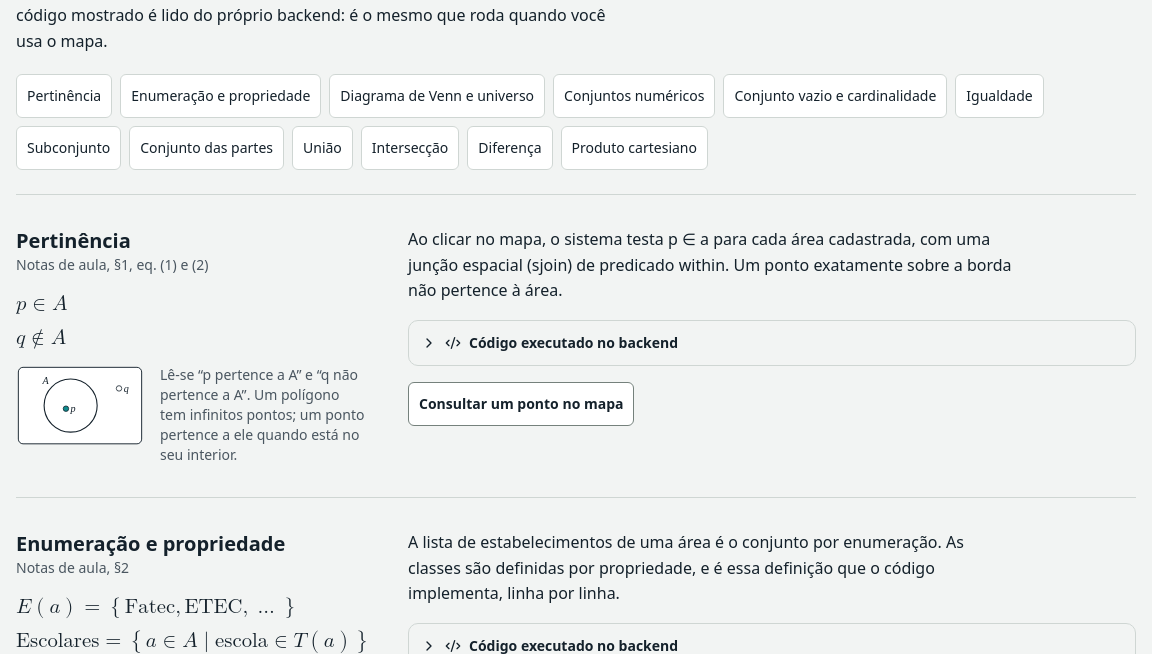
Test: PaginaTeoria › exibe o código-fonte lido do backend
This screenshot has width=1152, height=654.
(page scrolled)
Click the heading "Código executado no backend" below "§1, eq. (1) e (2)": (550, 342) [421,333,678,352]
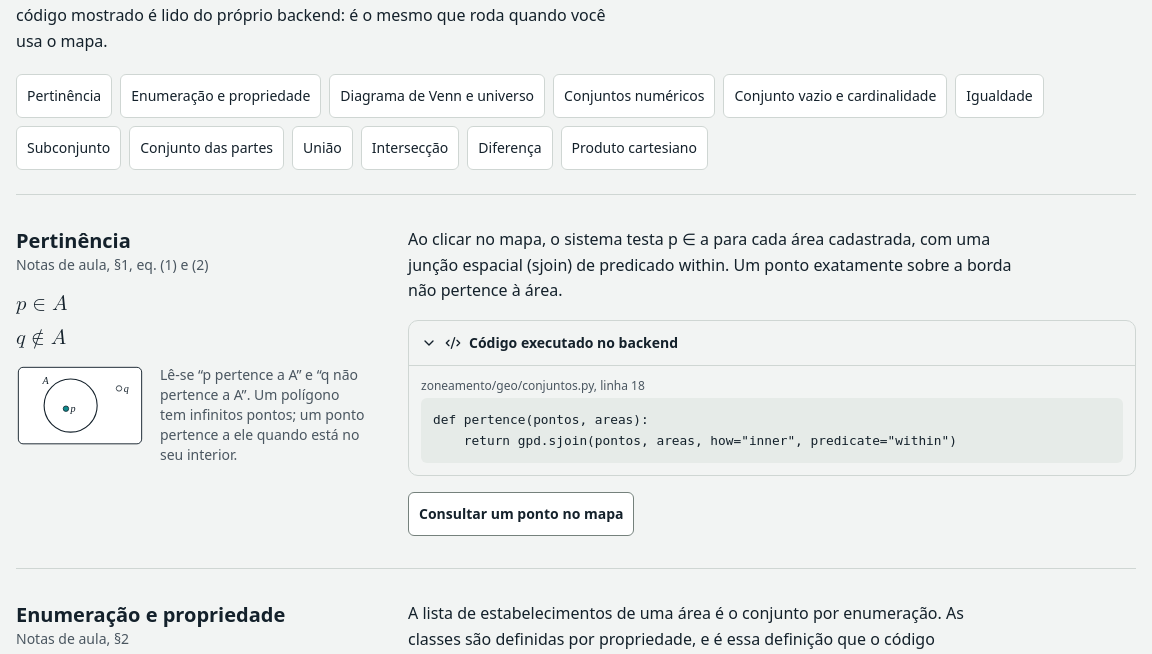
expect the text "predicate=\"within\"" is shown: met, box [433,412,957,448]
expect the text "zoneamento/geo/conjuntos.py, linha 18" is shown: met, box [421,377,645,394]
